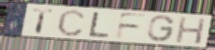C: (56, 8, 87, 38)
F: (113, 12, 149, 41)
G: (146, 15, 176, 43)
H: (174, 16, 208, 45)
L: (87, 11, 112, 39)
T: (32, 7, 55, 34)
